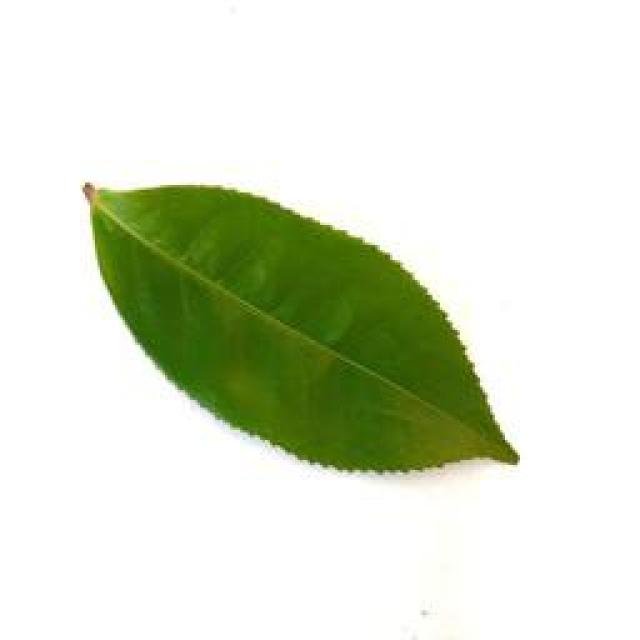Healthy: (72, 174, 530, 483)
